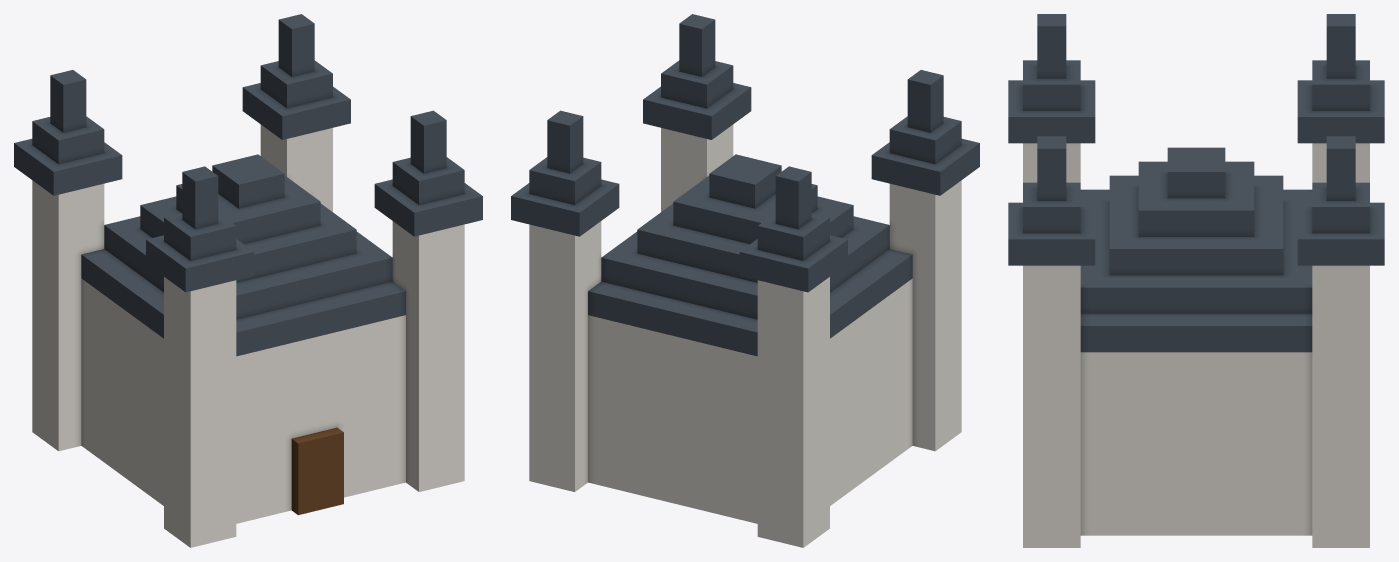
The model's file is w_castle.glb.
3 renders of one model, left to right at view 1: azimuth 30°, elevation 25°; view 2: azimuth 150°, elevation 25°; view 3: azimuth 270°, elevation 25°, orthographic. The views are drawn at different scales.
Parts seen in each view (by area): view 1: w_castle_body; view 2: w_castle_body; view 3: w_castle_body.
Part boxes in pixels (x1,y1,x2,y2): w_castle_body: (14, 14, 482, 547); w_castle_body: (511, 14, 979, 547); w_castle_body: (1008, 14, 1384, 547).
Bounding box in the file's own units: 1.62 × 1.88 × 1.62.
1 material, 1 textured.
